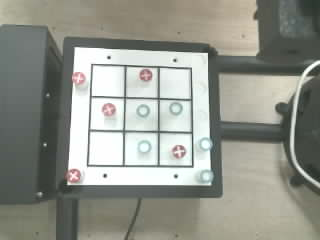blue circle: (136, 104, 149, 117), (199, 137, 212, 150), (200, 170, 213, 182), (169, 102, 182, 114), (138, 140, 151, 152)
board: (65, 46, 214, 186)
cells: (89, 132, 122, 165), (160, 133, 192, 165), (125, 133, 157, 165), (90, 98, 123, 129), (125, 99, 157, 130), (160, 100, 191, 131), (92, 66, 124, 96), (126, 67, 157, 97), (160, 68, 190, 98)
grid: (87, 64, 193, 167)
red cross: (66, 169, 81, 183), (172, 145, 186, 158), (72, 72, 85, 85), (102, 103, 115, 116), (139, 69, 152, 80)
